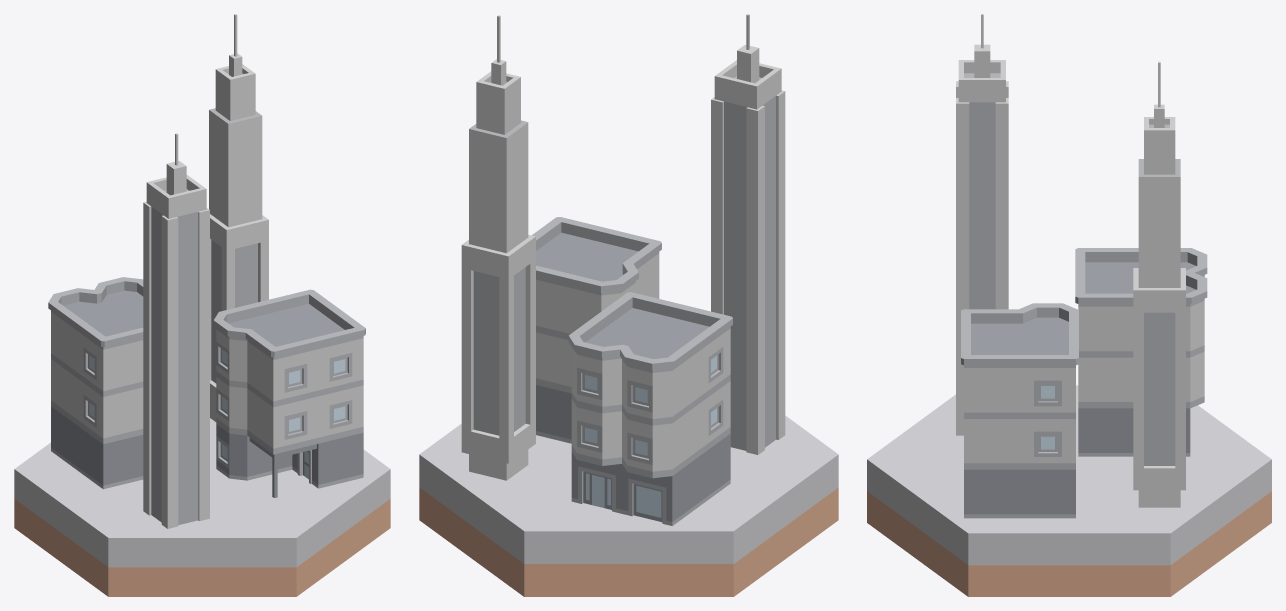
The model's file is 4_buildings_1_high.fbx.
3 views of the same model, side by side, from view 1: azimuth 30°, elevation 25°; view 2: azimuth 150°, elevation 25°; view 3: azimuth 270°, elevation 25° (orthographic). The views are drawn at different scales.
Visible parts, largest first — view 1: pavement_high.017, small_buildingC, low_buildingD, small_buildingA, low_buildingF; view 2: pavement_high.017, small_buildingA, low_buildingF, low_buildingD, small_buildingC; view 3: pavement_high.017, small_buildingC, low_buildingF, small_buildingA, low_buildingD.
Boxes of the visible parts, x1,y1,x2,y2 form: pavement_high.017: (14, 418, 390, 596); small_buildingC: (213, 289, 365, 497); low_buildingD: (143, 133, 209, 528); small_buildingA: (48, 277, 143, 489); low_buildingF: (209, 14, 268, 421); pavement_high.017: (419, 415, 838, 596); small_buildingA: (568, 292, 732, 525); low_buildingF: (461, 15, 535, 480); low_buildingD: (711, 14, 785, 454); small_buildingC: (532, 217, 661, 443); pavement_high.017: (867, 385, 1271, 596); small_buildingC: (961, 303, 1078, 518); low_buildingF: (1133, 61, 1185, 507); small_buildingA: (1075, 248, 1207, 456); low_buildingD: (956, 14, 1008, 435).
Bounding box in the file's own units: 100 × 157 × 115.
